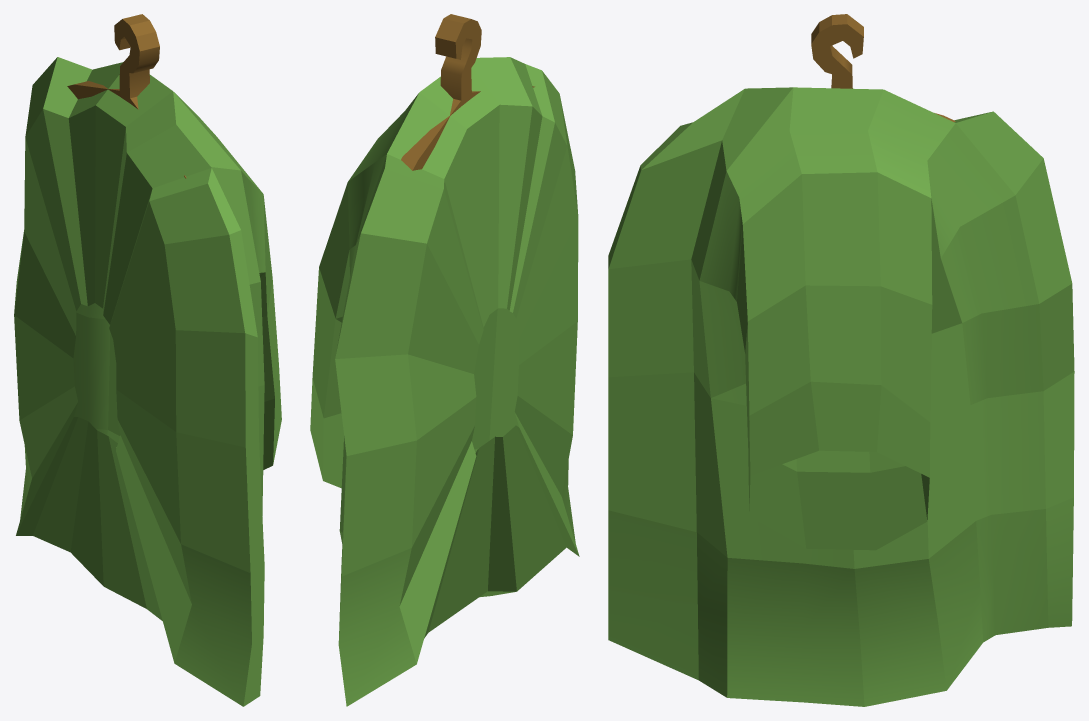
File: coatHanger.fbx
The picture shows the model from 3 angles, left to right: view 1: azimuth 30°, elevation 25°; view 2: azimuth 150°, elevation 25°; view 3: azimuth 270°, elevation 25°; orthographic projection. The views are drawn at different scales.
Parts seen in each view (by area): view 1: coat3, pCube7; view 2: coat3, pCube7; view 3: coat3, pCube7.
Part boxes in pixels (x1=…): coat3: x1=14, y1=57, x2=281, y2=706; pCube7: x1=67, y1=14, x2=186, y2=178; coat3: x1=310, y1=57, x2=579, y2=706; pCube7: x1=401, y1=14, x2=534, y2=170; coat3: x1=608, y1=87, x2=1074, y2=706; pCube7: x1=811, y1=14, x2=955, y2=121.
Size of the model in its own units: 29.56 by 119 by 77.3.
